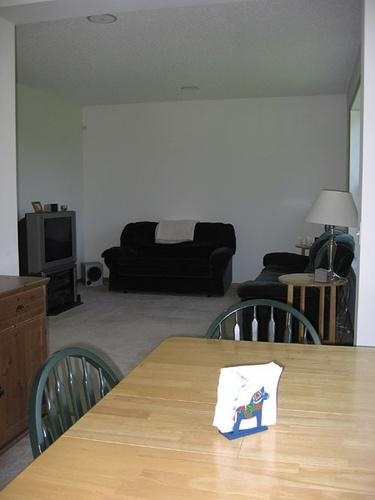chair: (29, 348, 122, 460), (204, 300, 322, 347)
diningtable: (4, 335, 375, 500)
sofa: (240, 229, 356, 342), (101, 221, 238, 298)
tvmonitor: (22, 211, 79, 275)
